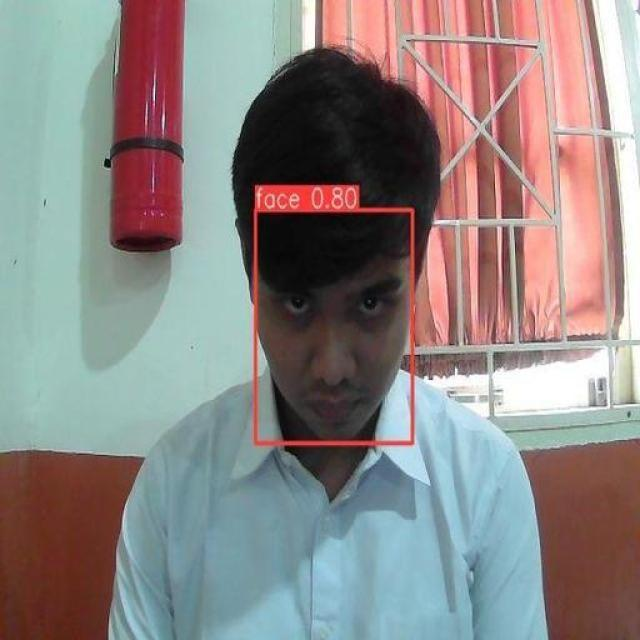bareface: (240, 162, 424, 462)
